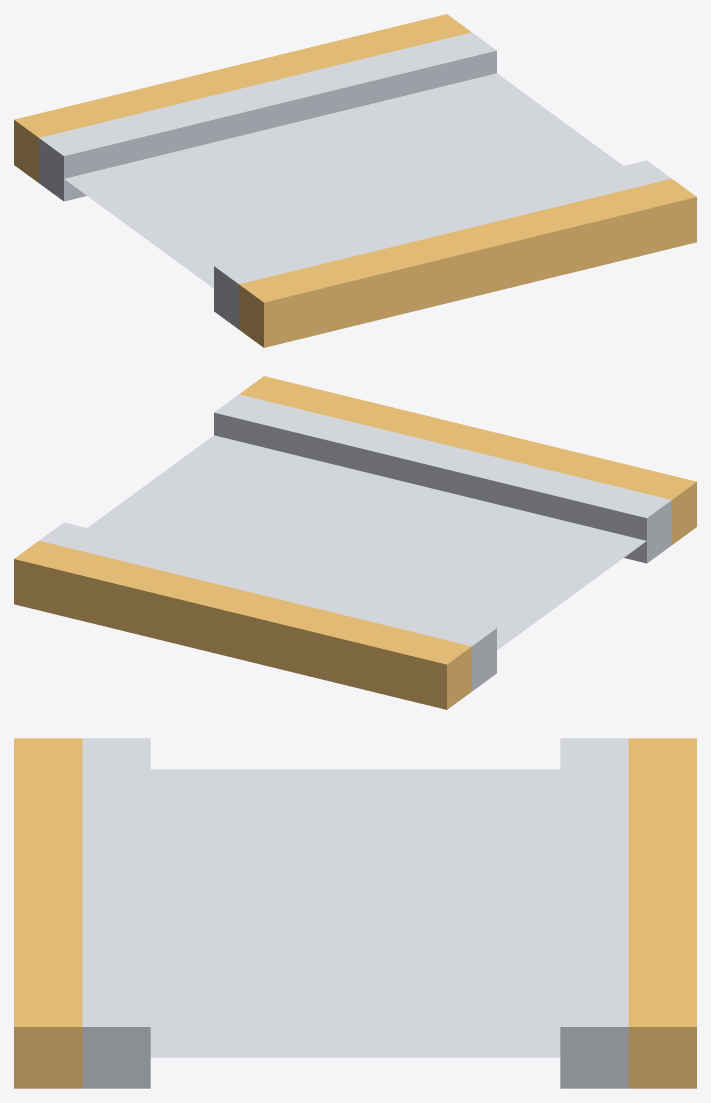
Rendered from platform_straight.glb.
The picture shows the model from 3 angles, top to bottom: view 1: azimuth 30°, elevation 25°; view 2: azimuth 150°, elevation 25°; view 3: azimuth 270°, elevation 25°; orthographic projection. The views are drawn at different scales.
Visible parts, largest first — view 1: platform_straight; view 2: platform_straight; view 3: platform_straight.
Boxes of the visible parts, x1,y1,x2,y2 form: platform_straight: [14, 14, 696, 347]; platform_straight: [14, 376, 696, 709]; platform_straight: [14, 738, 696, 1088].
Bounding box in the file's own units: 1 × 0.1 × 1.
